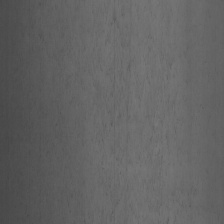silk_spot: (66, 9, 194, 203)
